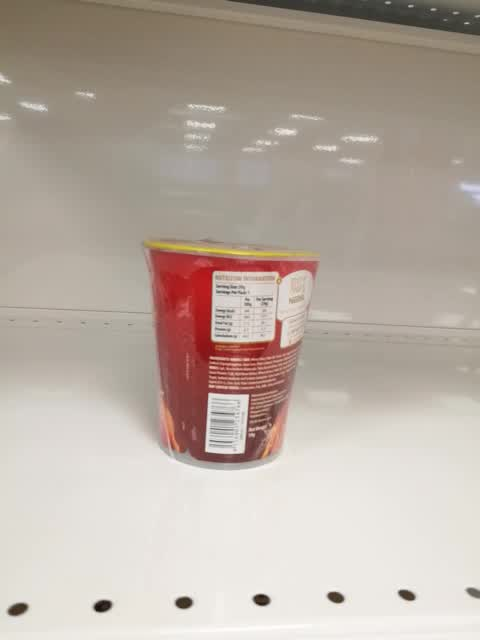maggi: (141, 239, 324, 473)
